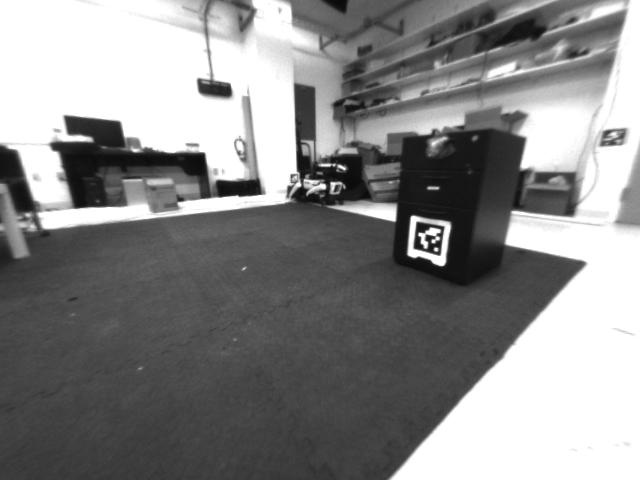drawer: (417, 131, 457, 168)
